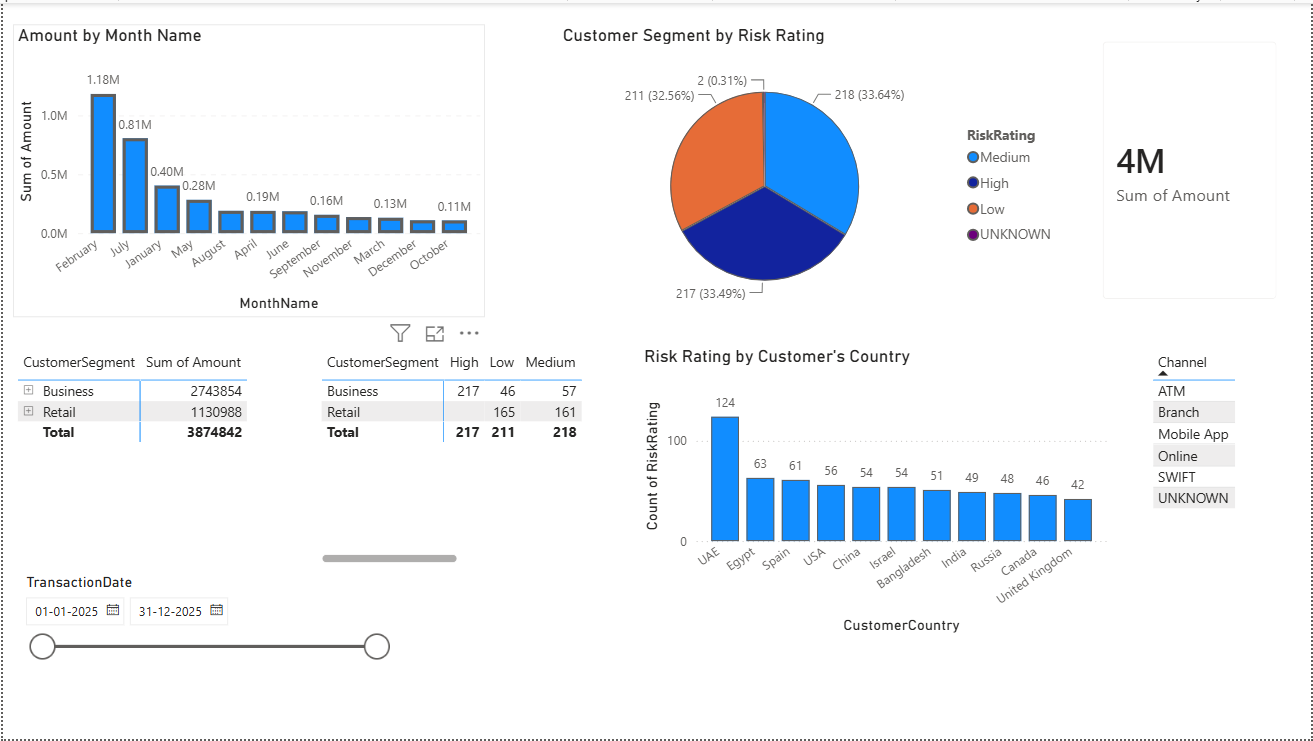

The dashboard page shown, as its layout file describes it:
{"tool":"powerbi","page":{"name":"Page 1","canvas":[1280,720],"ordinal":0},"visuals":[{"type":"FlowVisual_C29F1DCC_81F5_4973_94AD_0517D44CC06A","box":[10,0,280,280],"z":0},{"type":"columnChart","fields":{"Category":["Raw_Transactions.MonthName"],"Y":["Sum(Raw_Transactions.Amount)"]},"box":[9.8,20.8,462.2,286.1],"z":1000},{"type":"pieChart","fields":{"Y":["CountNonNull(Raw_Transactions.CustomerSegment)"],"Category":["Raw_Transactions.RiskRating"]},"box":[553.9,20.8,496.8,286.6],"z":2000},{"type":"pivotTable","fields":{"Rows":["Raw_Transactions.CustomerSegment","Raw_Transactions.RiskRating"],"Values":["Sum(Raw_Transactions.Amount)"]},"box":[9.8,325.3,264.1,217.7],"z":3000},{"type":"columnChart","fields":{"Category":["Raw_Transactions.CustomerCountry"],"Y":["CountNonNull(Raw_Transactions.RiskRating)"]},"box":[620,325.3,462.2,286.1],"z":3001},{"type":"pivotTable","fields":{"Columns":["Raw_Transactions.RiskRating"],"Rows":["Raw_Transactions.CustomerSegment"],"Values":["CountNonNull(Raw_Transactions.CustomerSegment)"]},"box":[305.7,325.3,264.1,217.7],"z":3002},{"type":"cardVisual","fields":{"Data":["Sum(Raw_Transactions.Amount)"]},"box":[1059,64.8,204.2,199.3],"z":3003},{"type":"tableEx","fields":{"Values":["Raw_Transactions.Channel"]},"box":[1118.9,325.3,161.4,273.9],"z":3004},{"type":"slicer","fields":{"Values":["Raw_Transactions.TransactionDate"]},"box":[9.8,552.7,376.6,167.5],"z":3005}]}

Visuals, with their boxes in screenshot pixels (x1, y1, x2, y2), scaled from the page's 1280x720 canvas onto the 1313x741 screenshot:
FlowVisual_C29F1DCC_81F5_4973_94AD_0517D44CC06A: rect(10, 0, 297, 288)
columnChart - Raw_Transactions.MonthName x Sum(Raw_Transactions.Amount): rect(10, 21, 484, 316)
pieChart - CountNonNull(Raw_Transactions.CustomerSegment) x Raw_Transactions.RiskRating: rect(568, 21, 1078, 316)
pivotTable - Raw_Transactions.CustomerSegment x Raw_Transactions.RiskRating: rect(10, 335, 281, 559)
columnChart - Raw_Transactions.CustomerCountry x CountNonNull(Raw_Transactions.RiskRating): rect(636, 335, 1110, 629)
pivotTable - Raw_Transactions.RiskRating x Raw_Transactions.CustomerSegment: rect(314, 335, 584, 559)
cardVisual - Sum(Raw_Transactions.Amount): rect(1086, 67, 1296, 272)
tableEx - Raw_Transactions.Channel: rect(1148, 335, 1312, 617)
slicer - Raw_Transactions.TransactionDate: rect(10, 569, 396, 740)
